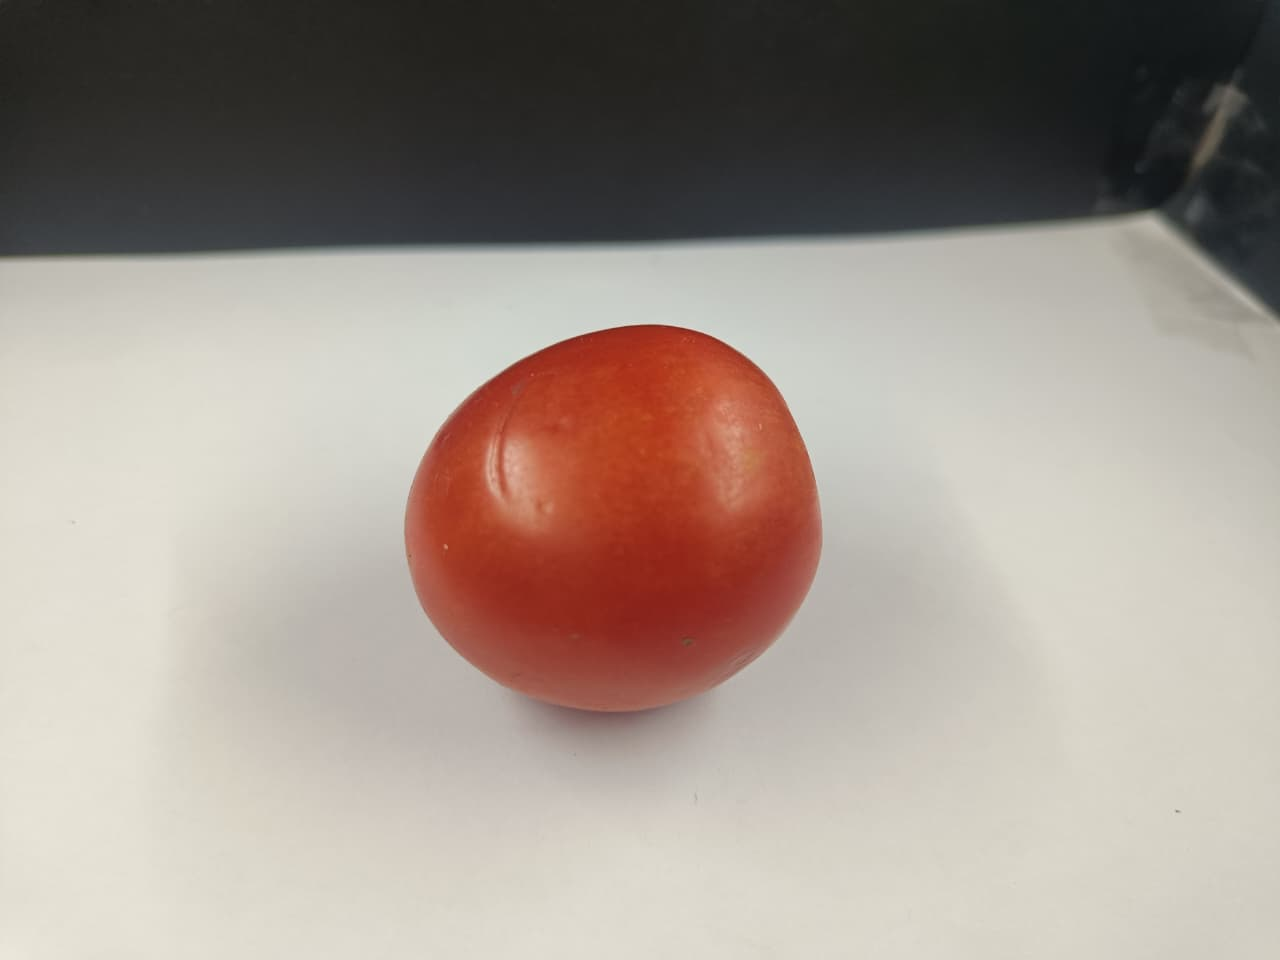ripe: (353, 338, 843, 720)
